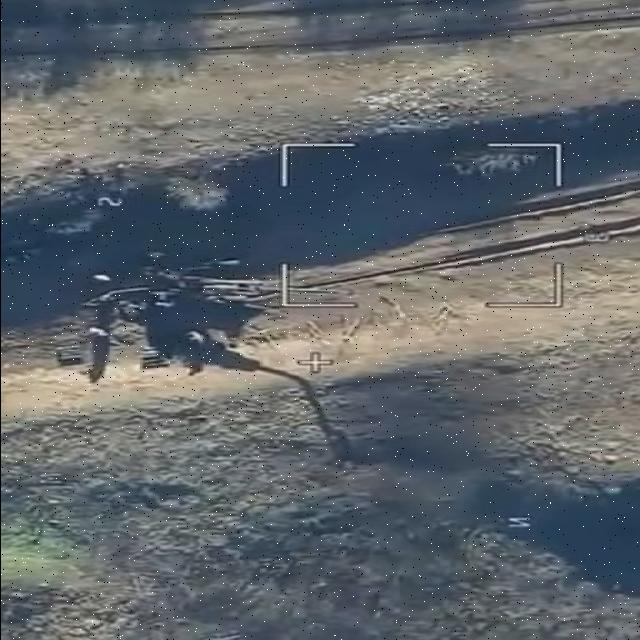ART: (78, 254, 246, 338)
